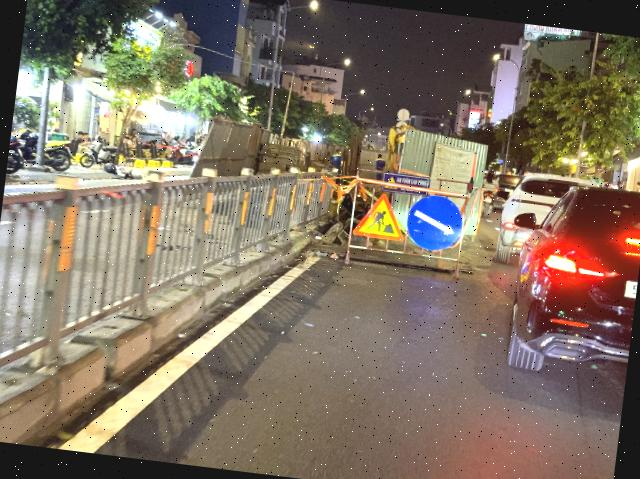cong-truong-dang-thi-cong: (352, 190, 408, 241)
huong-phai-di-vong-chuong-ngai-vat: (404, 192, 464, 254)
